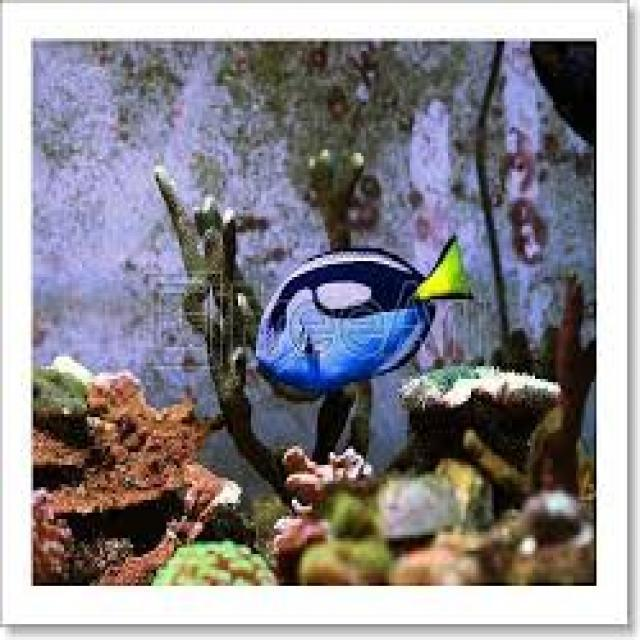BlueTang: (238, 228, 481, 406)
